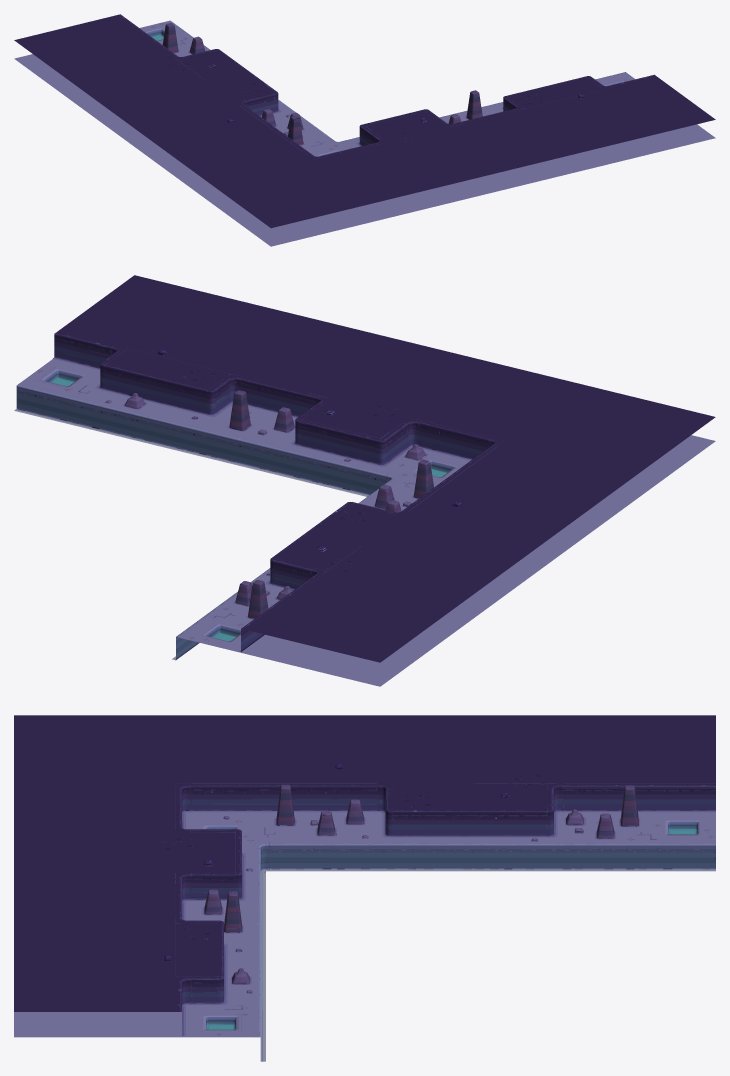
File: C_cave1_out_RU.fbx
The picture shows the model from 3 angles, top to bottom: view 1: azimuth 30°, elevation 25°; view 2: azimuth 150°, elevation 25°; view 3: azimuth 270°, elevation 25°; orthographic projection. The views are drawn at different scales.
Parts seen in each view (by area): view 1: C_cave1_out_RU.001; view 2: C_cave1_out_RU.001; view 3: C_cave1_out_RU.001.
Boxes of the visible parts, box(x1,y1,x2,y2) form: C_cave1_out_RU.001: box(14, 14, 715, 246); C_cave1_out_RU.001: box(14, 275, 715, 686); C_cave1_out_RU.001: box(14, 715, 715, 1061).
Size of the model in its own units: 117 by 11.26 by 117.
